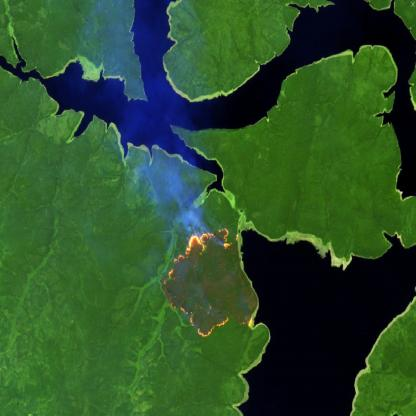fire: (161, 224, 262, 336)
